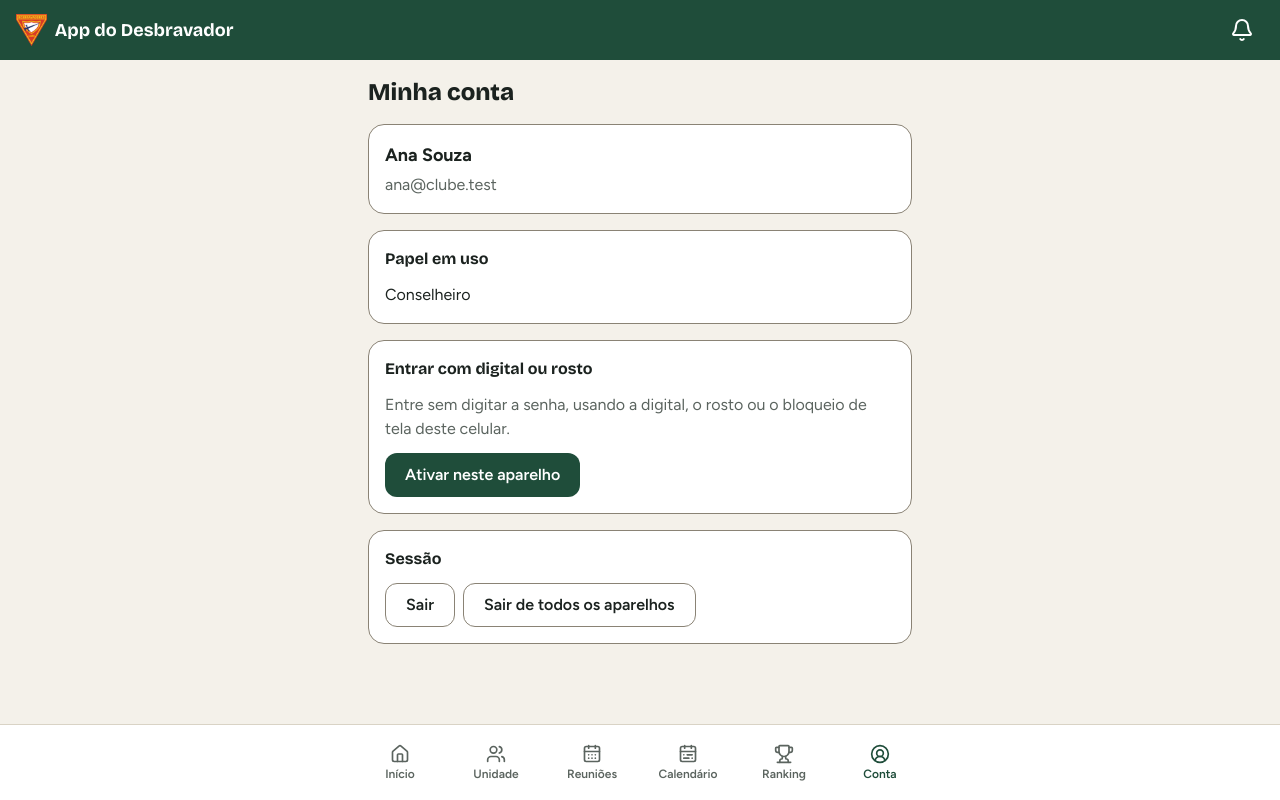
Minha conta: entrar com digital ou rosto › senha errada (422) mostra "Senha incorreta." no painel, que continua aberto, e a sessão segue
Click the button "Ativar neste aparelho": (483, 475) [385,453,580,497]
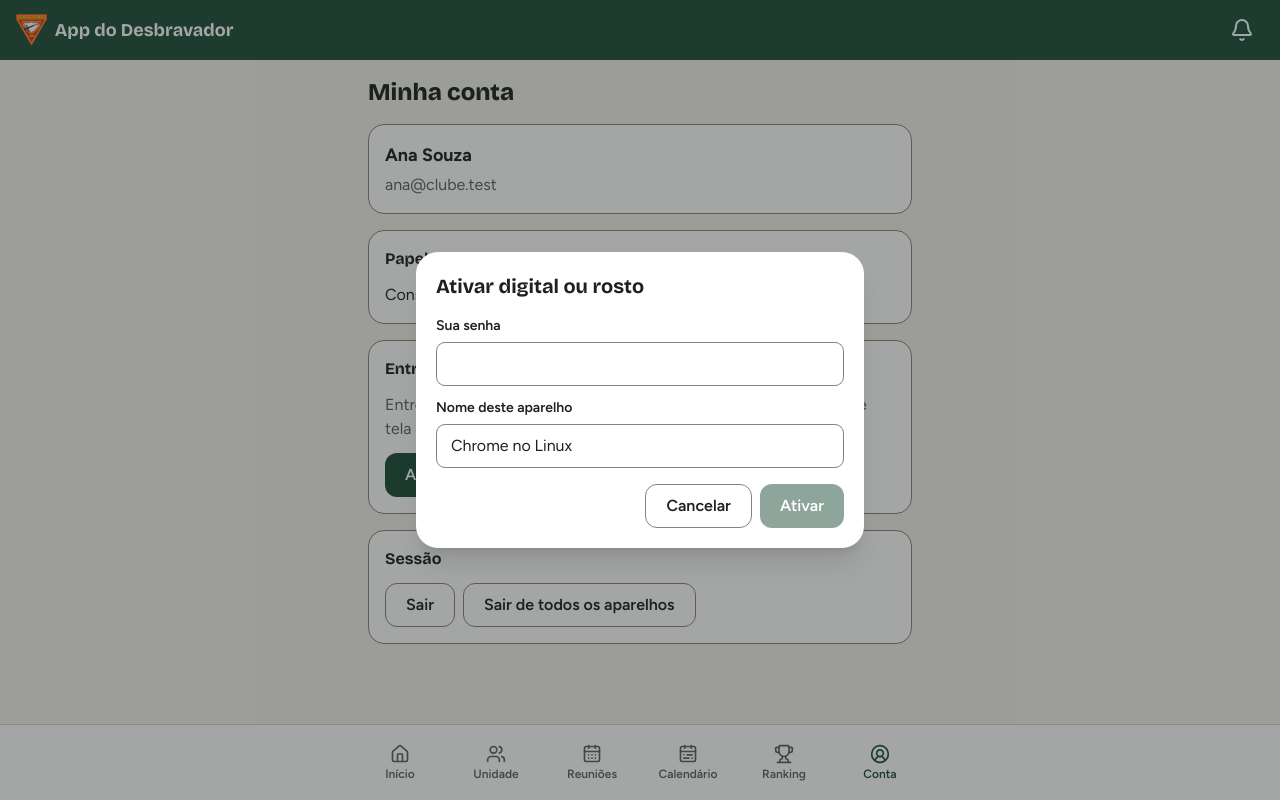
In the password field labelled "Sua senha": (640, 364) [436,342,844,386], type "errada"
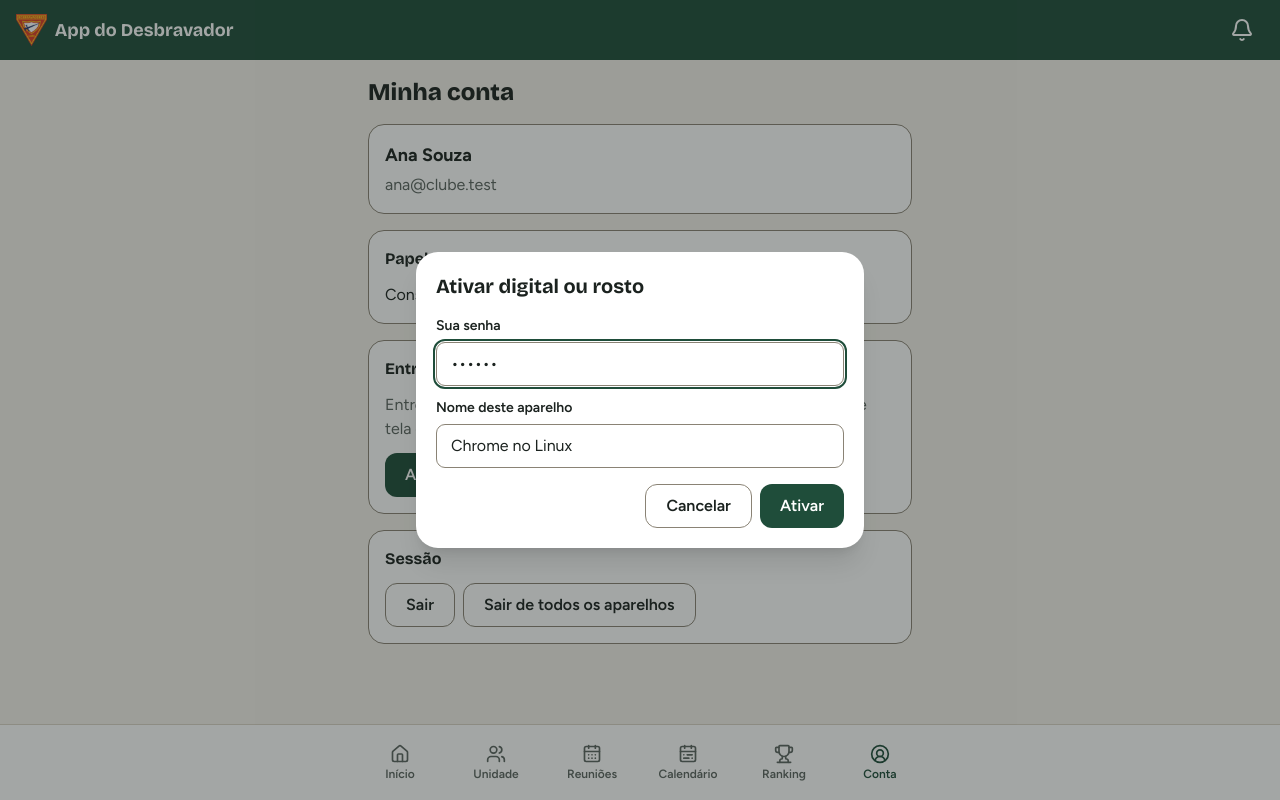
Click the button "Ativar": (802, 506) [760,484,844,528]
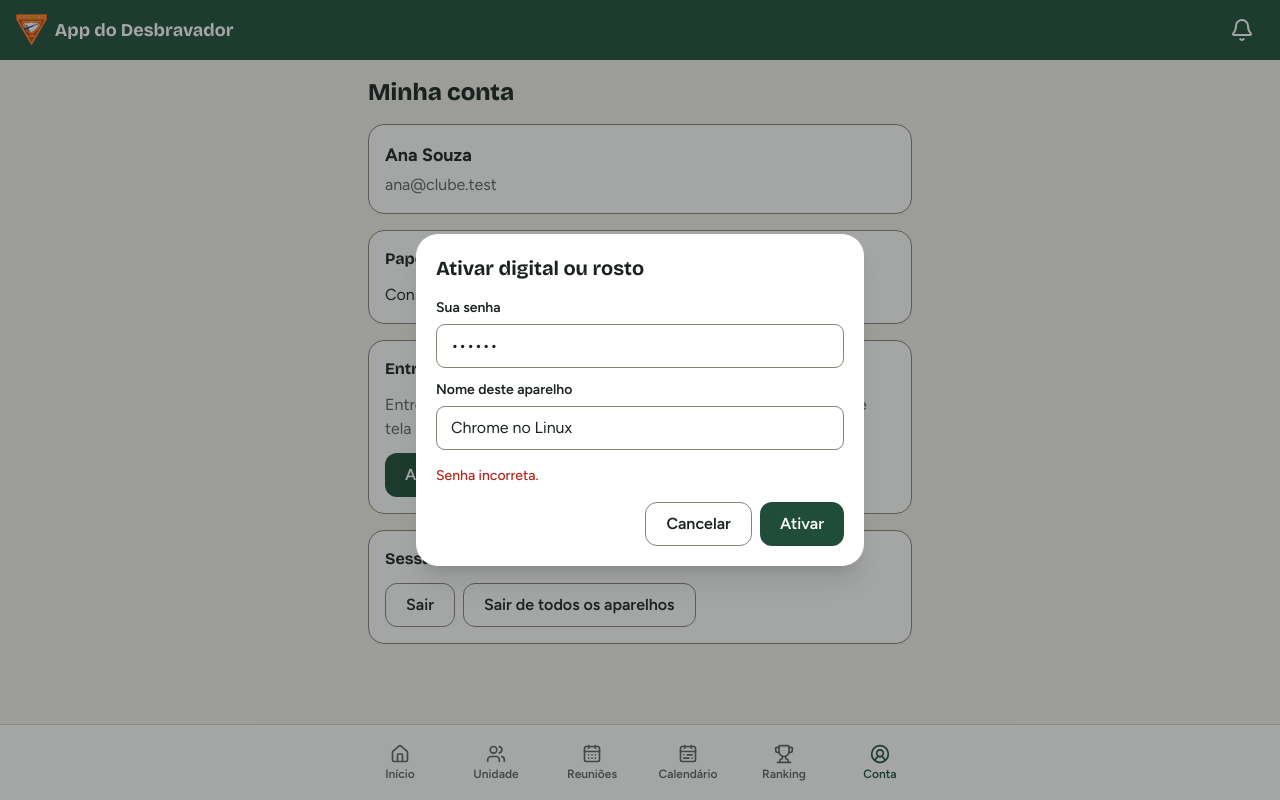
expect the heading "Minha conta" is shown: met, box [368,78,514,106]
expect the text "Senha incorreta." is shown: met, box [436,467,539,484]
